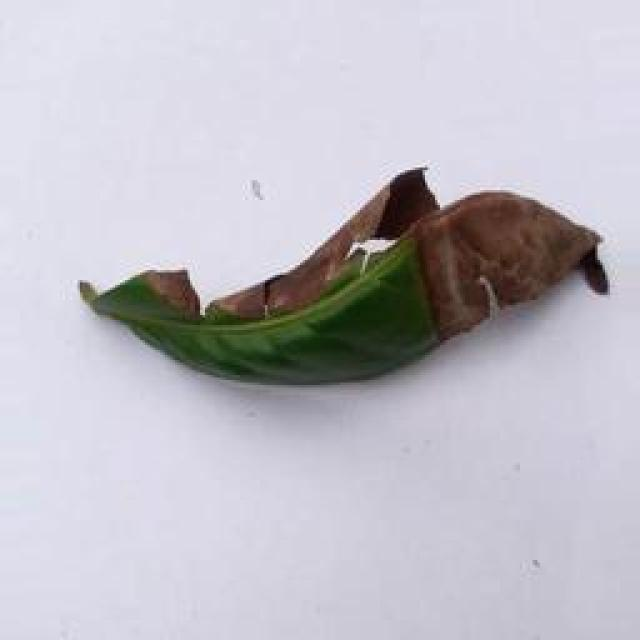Brown Blight: (60, 155, 604, 397)
